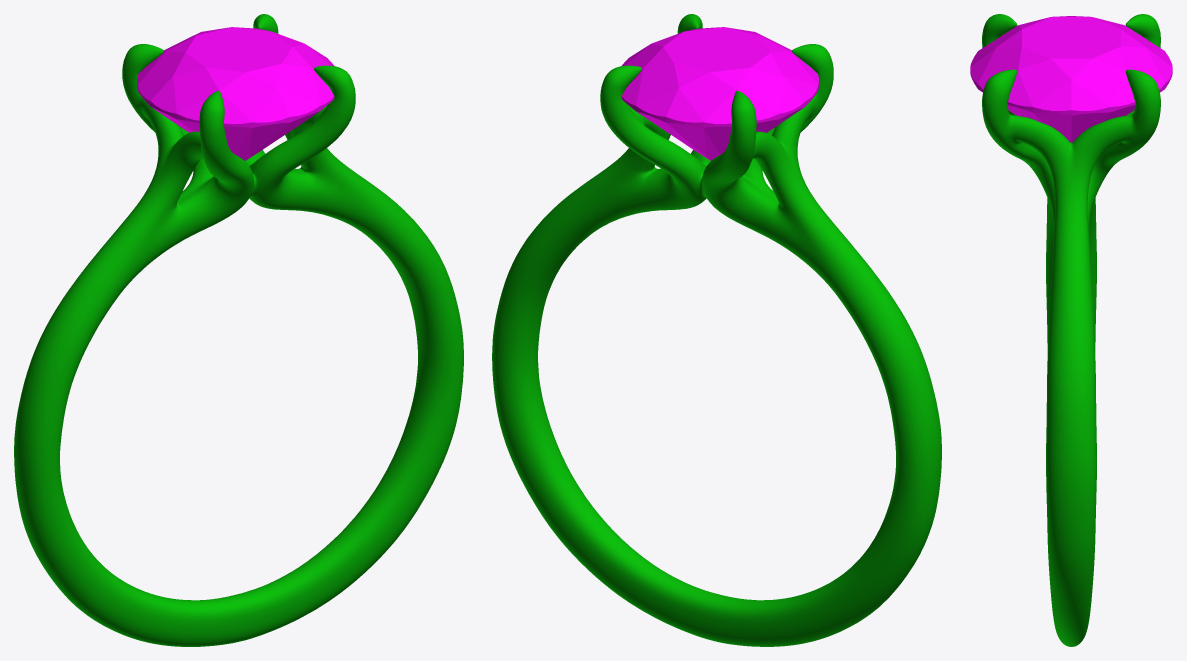
File: BE1829_RD_200ct_RENDER.glb
3 views of the same model, side by side, from view 1: azimuth 30°, elevation 25°; view 2: azimuth 150°, elevation 25°; view 3: azimuth 270°, elevation 25° (orthographic).
Parts seen in each view (by area): view 1: Metal 01, CS_Diamond_Round; view 2: Metal 01, CS_Diamond_Round; view 3: Metal 01, CS_Diamond_Round.
Part boxes in pixels (x1,y1,x2,y2): Metal 01: (14,14,463,646); CS_Diamond_Round: (137,27,334,160); Metal 01: (492,14,941,646); CS_Diamond_Round: (621,27,818,160); Metal 01: (982,14,1160,646); CS_Diamond_Round: (970,16,1172,142).
Bounding box in the file's own units: 19.96 × 25.54 × 8.
